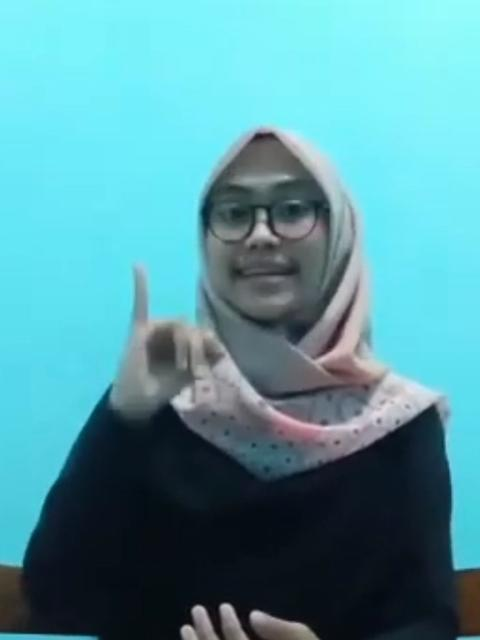I: (120, 262, 229, 422)
